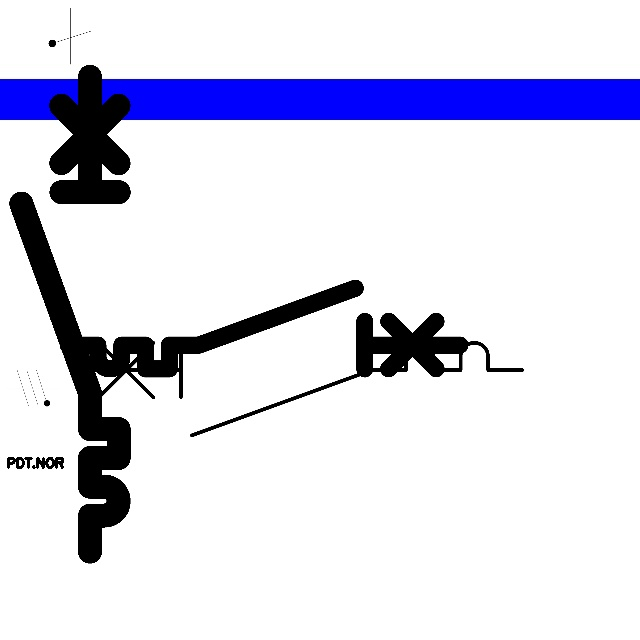interruptor_termomagnetico: (9, 64, 131, 563), (59, 331, 534, 447), (58, 278, 470, 379)
